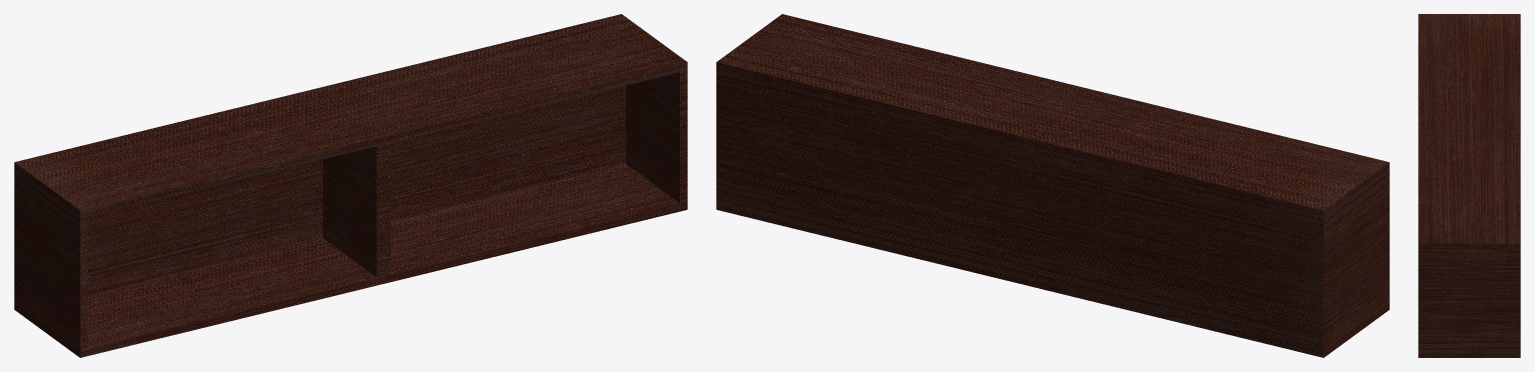
Rendered from Closet 3.FBX.
The picture shows the model from 3 angles, left to right: view 1: azimuth 30°, elevation 25°; view 2: azimuth 150°, elevation 25°; view 3: azimuth 270°, elevation 25°; orthographic projection. The views are drawn at different scales.
Visible parts, largest first — view 1: Closet 3; view 2: Closet 3; view 3: Closet 3.
Part boxes in pixels (x1,y1,x2,y2): Closet 3: (14, 14, 687, 357); Closet 3: (716, 14, 1389, 357); Closet 3: (1418, 14, 1520, 357).
Size of the model in its own units: 258 by 59.82 by 48.44.
1 material, 1 textured.
